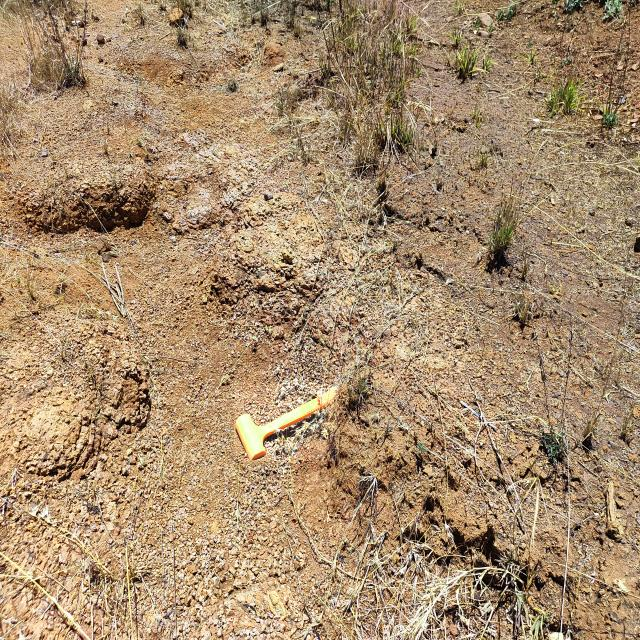Orange_hammer: (234, 383, 339, 461)
